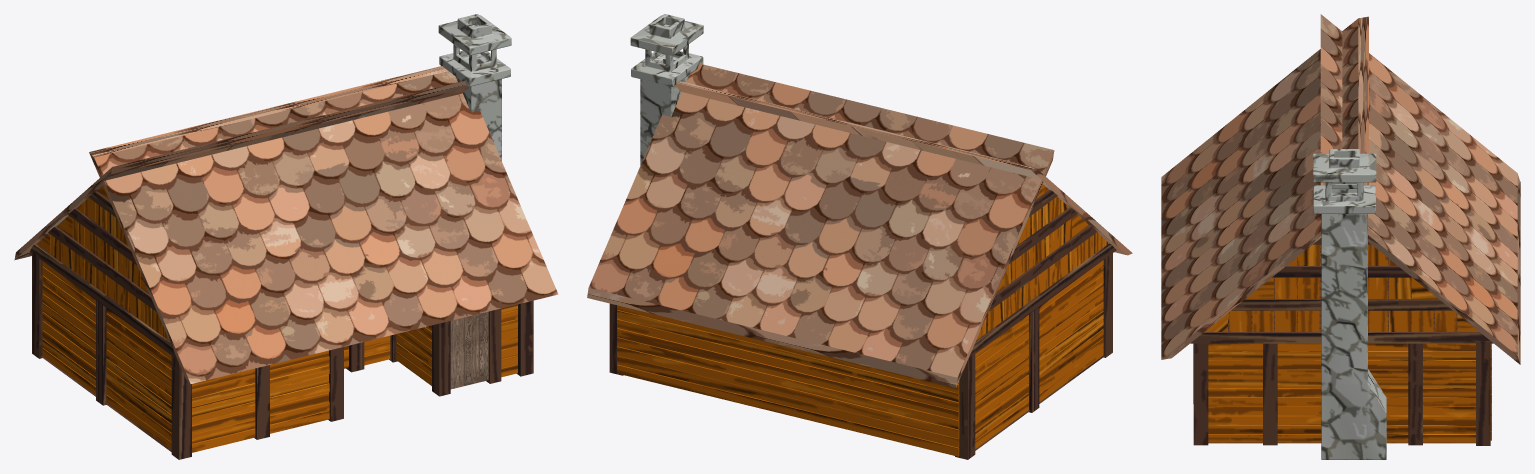
Rendered from Casa_Noah.fbx.
3 renders of one model, left to right at view 1: azimuth 30°, elevation 25°; view 2: azimuth 150°, elevation 25°; view 3: azimuth 270°, elevation 25°, orthographic.
Parts seen in each view (by area): view 1: Cube, Box025, Box310, Cube.001, Box314, Box191, Box226.001; view 2: Cube.001, Box025, Box310, Box314, Box191, Cube; view 3: Cube, Cube.001, Box025, Box314, Box310, Box191, Box239.
Part boxes in pixels (x1,y1,x2,y2): Cube: [89, 66, 558, 383]; Box025: [42, 261, 517, 452]; Box310: [30, 191, 533, 459]; Cube.001: [14, 80, 469, 260]; Box314: [438, 14, 511, 161]; Box191: [37, 185, 169, 340]; Box226.001: [450, 311, 488, 389]; Cube.001: [587, 63, 1054, 387]; Box025: [617, 260, 1103, 456]; Box310: [609, 190, 1116, 459]; Box314: [630, 14, 703, 165]; Box191: [976, 184, 1108, 340]; Cube: [675, 81, 1132, 255]; Cube: [1161, 16, 1368, 359]; Cube.001: [1320, 14, 1520, 364]; Box025: [1208, 343, 1491, 442]; Box314: [1313, 149, 1386, 459]; Box310: [1190, 238, 1493, 445]; Box191: [1205, 244, 1478, 331]; Box239: [1228, 244, 1457, 328].
Bounding box in the file's own units: 772 × 549 × 597.
